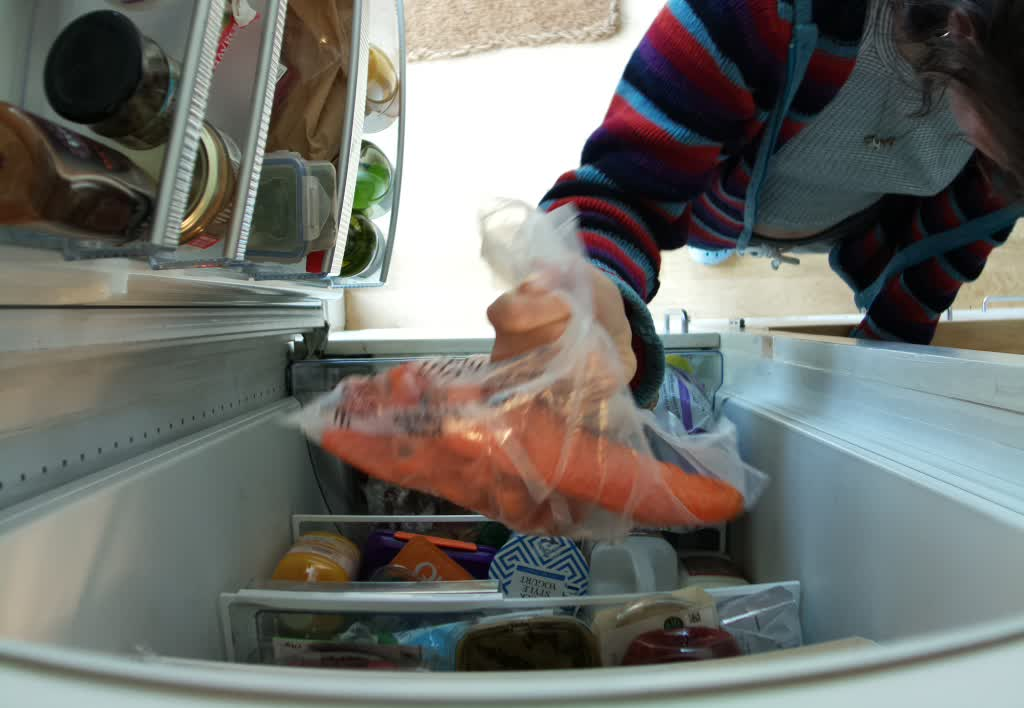carrot: (322, 361, 747, 536)
